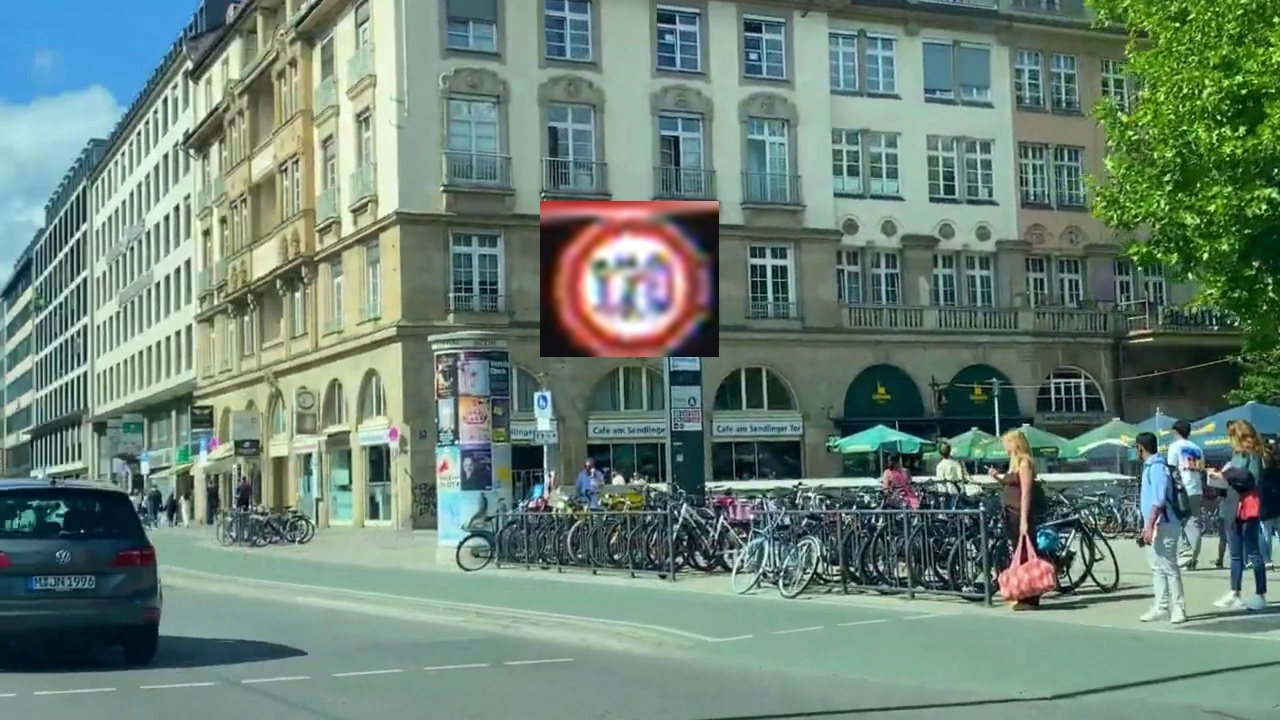Speed 120: (540, 201, 719, 357)
